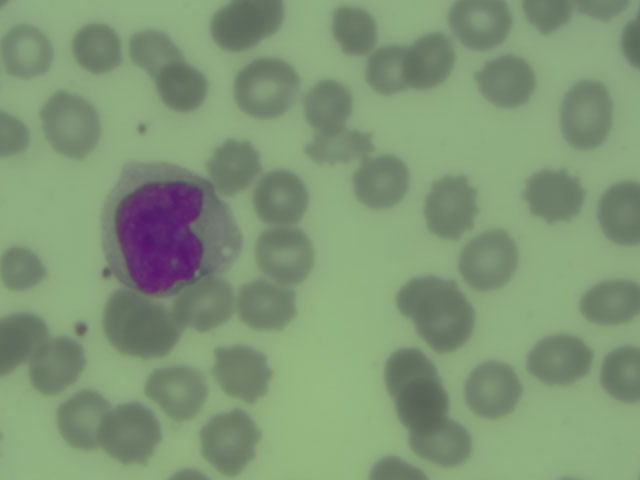Platelets: (69, 318, 93, 341), (131, 119, 154, 139), (96, 262, 114, 280)
RBC: (447, 1, 517, 50), (297, 125, 378, 167), (576, 279, 640, 328), (212, 1, 281, 45), (396, 271, 467, 313), (424, 178, 477, 234), (527, 167, 580, 223), (558, 85, 611, 141), (477, 49, 530, 105), (406, 34, 459, 90), (363, 38, 416, 94), (331, 4, 384, 60), (299, 77, 352, 133), (205, 138, 258, 194), (257, 171, 310, 227), (259, 225, 312, 281), (239, 278, 292, 334), (203, 413, 256, 469), (216, 344, 269, 400), (181, 282, 234, 338), (126, 306, 179, 362), (103, 297, 156, 353), (150, 360, 203, 416), (103, 404, 156, 460), (58, 393, 111, 449), (31, 339, 84, 395), (239, 58, 292, 114), (156, 58, 209, 114), (127, 21, 180, 77), (69, 19, 122, 75), (44, 98, 97, 154), (468, 361, 521, 417), (533, 332, 586, 388), (465, 232, 518, 288), (419, 292, 472, 348), (397, 378, 450, 434), (415, 415, 468, 471), (353, 152, 406, 208), (598, 174, 640, 243), (1, 241, 52, 297), (1, 23, 52, 79), (600, 341, 640, 410), (381, 346, 437, 390), (519, 1, 576, 37), (1, 310, 32, 373), (1, 106, 32, 164), (359, 457, 427, 480)
WBC: (108, 166, 228, 294)
